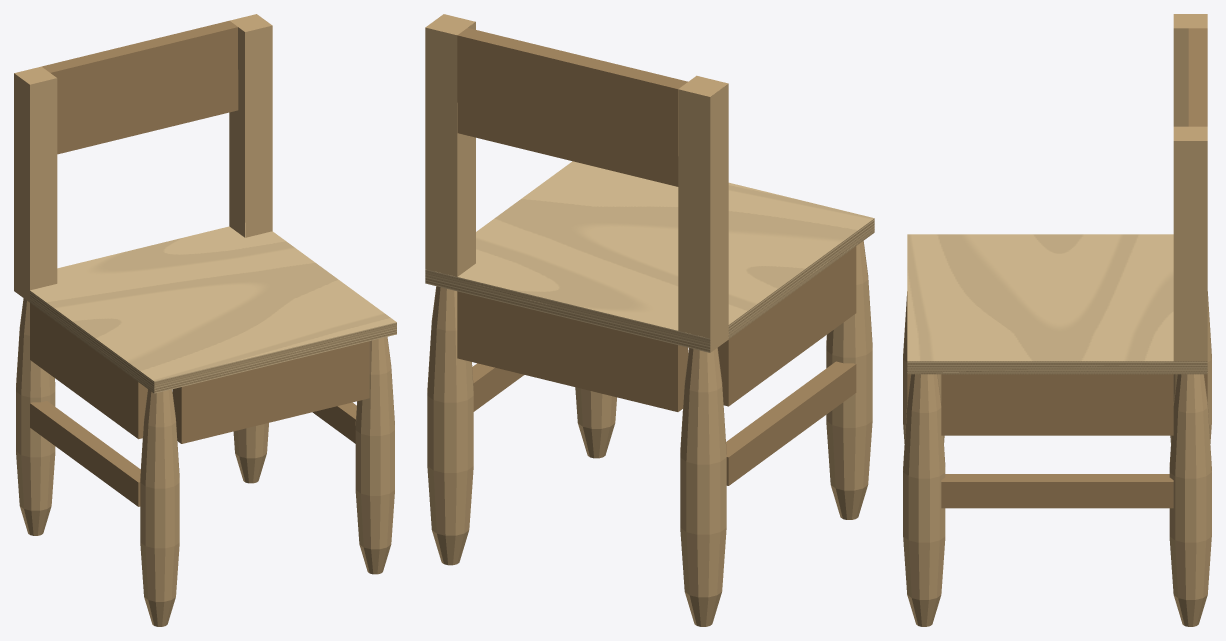
The model's file is SAB-KCH-std.glb.
3 views of the same model, side by side, from view 1: azimuth 30°, elevation 25°; view 2: azimuth 150°, elevation 25°; view 3: azimuth 270°, elevation 25° (orthographic). The views are drawn at different scales.
Parts seen in each view (by area): view 1: seat:sheet:eyJtIjoicGx5Iiwic2lkZSI6ImZhY2UiLCJzZWVkIjo2LCJ2Z, leg-bl:pbr, rail-f:pbr, leg-br:pbr, back-top:pbr, leg-fl:pbr, leg-fr:pbr, back-mid:pbr, rail-l:pbr, stretcher-l:pbr, seat:sheet:eyJtIjoicGx5Iiwic2lkZSI6ImVkZ2UtbG9uZyIsInNlZWQiO, seat:sheet:eyJtIjoicGx5Iiwic2lkZSI6ImVkZ2UtZW5kIiwic2VlZCI6N (+1 smaller); view 2: seat:sheet:eyJtIjoicGx5Iiwic2lkZSI6ImZhY2UiLCJzZWVkIjo2LCJ2Z, leg-bl:pbr, leg-br:pbr, back-top:pbr, rail-b:pbr, rail-l:pbr, leg-fl:pbr, back-mid:pbr, stretcher-l:pbr, seat:sheet:eyJtIjoicGx5Iiwic2lkZSI6ImVkZ2UtbG9uZyIsInNlZWQiO, leg-fr:pbr, seat:sheet:eyJtIjoicGx5Iiwic2lkZSI6ImVkZ2UtZW5kIiwic2VlZCI6N (+1 smaller); view 3: seat:sheet:eyJtIjoicGx5Iiwic2lkZSI6ImZhY2UiLCJzZWVkIjo2LCJ2Z, leg-br:pbr, rail-r:pbr, leg-fr:pbr, stretcher-r:pbr, seat:sheet:eyJtIjoicGx5Iiwic2lkZSI6ImVkZ2UtZW5kIiwic2VlZCI6N, leg-bl:pbr, back-top:pbr, leg-fl:pbr.
Boxes of the visible parts, x1,y1,x2,y2 form: seat:sheet:eyJtIjoicGx5Iiwic2lkZSI6ImZhY2UiLCJzZWVkIjo2LCJ2Z: (30,223,396,381); leg-bl:pbr: (14,66,57,535); rail-f:pbr: (172,341,369,443); leg-br:pbr: (229,14,272,483); back-top:pbr: (42,20,237,113); leg-fl:pbr: (140,389,179,626); leg-fr:pbr: (355,337,394,574); back-mid:pbr: (57,69,238,154); rail-l:pbr: (30,303,147,439); stretcher-l:pbr: (30,401,140,506); seat:sheet:eyJtIjoicGx5Iiwic2lkZSI6ImVkZ2UtbG9uZyIsInNlZWQiO: (154,322,396,393); seat:sheet:eyJtIjoicGx5Iiwic2lkZSI6ImVkZ2UtZW5kIiwic2VlZCI6N: (30,291,154,393); seat:sheet:eyJtIjoicGx5Iiwic2lkZSI6ImZhY2UiLCJzZWVkIjo2LCJ2Z: (458,161,874,330); leg-bl:pbr: (678,75,728,626); leg-br:pbr: (425,14,475,565); back-top:pbr: (457,28,687,156); rail-b:pbr: (457,291,688,411); rail-l:pbr: (718,246,856,406); leg-fl:pbr: (826,241,872,519); back-mid:pbr: (457,102,678,186); stretcher-l:pbr: (726,361,856,485); seat:sheet:eyJtIjoicGx5Iiwic2lkZSI6ImVkZ2UtbG9uZyIsInNlZWQiO: (425,269,710,352); leg-fr:pbr: (575,387,616,458); seat:sheet:eyJtIjoicGx5Iiwic2lkZSI6ImVkZ2UtZW5kIiwic2VlZCI6N: (728,218,874,338); seat:sheet:eyJtIjoicGx5Iiwic2lkZSI6ImZhY2UiLCJzZWVkIjo2LCJ2Z: (907,234,1173,361); leg-br:pbr: (1169,126,1211,626); rail-r:pbr: (941,374,1173,435); leg-fr:pbr: (903,374,945,626); stretcher-r:pbr: (941,474,1173,508); seat:sheet:eyJtIjoicGx5Iiwic2lkZSI6ImVkZ2UtZW5kIiwic2VlZCI6N: (907,361,1207,374); leg-bl:pbr: (1170,14,1211,443); back-top:pbr: (1188,28,1207,126); leg-fl:pbr: (903,291,944,443).
Bounding box in the file's own units: 0.32 × 0.56 × 0.32.
Materials: 15 (3 with a texture image).
